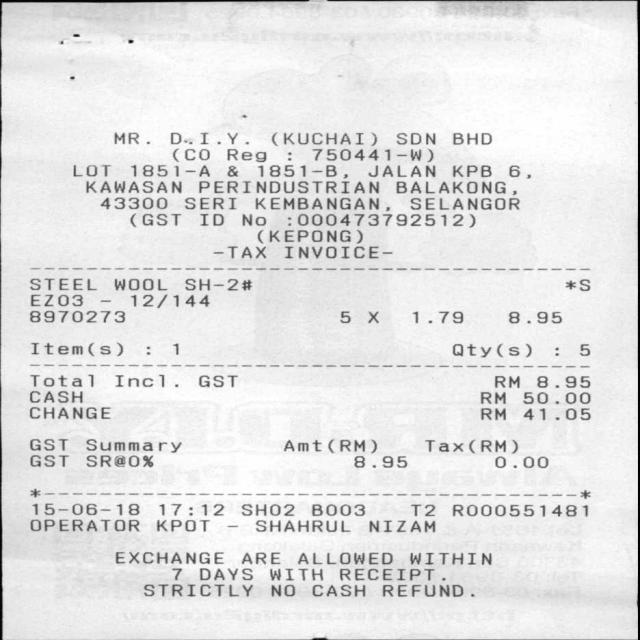text: (286, 213, 473, 227), (198, 180, 378, 192), (451, 504, 588, 517), (254, 197, 388, 210), (395, 180, 516, 194), (312, 148, 431, 161), (270, 132, 375, 146), (284, 245, 391, 258), (144, 583, 251, 596), (410, 197, 518, 209), (29, 518, 137, 530), (114, 551, 222, 563), (31, 502, 138, 514), (30, 342, 121, 356), (339, 568, 445, 580), (256, 230, 361, 242), (84, 438, 180, 451), (282, 439, 375, 452), (423, 439, 516, 452), (381, 583, 472, 596), (256, 164, 346, 177), (84, 180, 180, 192), (28, 310, 123, 322), (254, 520, 348, 532), (297, 552, 391, 564), (129, 294, 208, 308), (451, 343, 529, 357), (28, 406, 109, 418), (410, 552, 490, 564), (129, 164, 208, 176), (169, 132, 247, 144), (98, 196, 166, 208), (28, 278, 96, 290), (184, 278, 250, 290), (522, 391, 588, 403), (522, 408, 588, 420), (86, 454, 152, 466), (157, 503, 223, 515), (368, 164, 433, 176), (368, 520, 433, 532), (29, 374, 92, 386), (211, 245, 264, 258), (129, 213, 179, 226), (507, 310, 560, 322), (536, 375, 589, 387), (494, 456, 547, 468), (240, 503, 293, 515), (311, 503, 364, 515), (198, 567, 251, 579), (311, 584, 364, 596), (113, 278, 165, 290), (113, 374, 165, 386), (29, 390, 81, 402), (353, 455, 405, 467), (269, 568, 321, 580), (30, 294, 81, 306), (185, 196, 235, 208), (412, 310, 462, 322), (155, 519, 207, 530), (226, 148, 264, 161), (394, 132, 434, 144), (451, 132, 490, 144), (451, 164, 490, 176), (71, 164, 109, 176), (172, 148, 208, 160), (198, 375, 236, 386), (29, 455, 67, 466), (240, 552, 278, 563), (29, 439, 66, 450), (113, 132, 148, 143), (479, 391, 505, 403), (479, 408, 505, 420), (198, 213, 222, 225), (494, 375, 518, 387), (270, 584, 294, 596), (409, 504, 435, 515), (242, 213, 264, 225), (565, 279, 589, 290), (509, 165, 529, 178), (338, 310, 351, 322), (367, 310, 378, 322), (227, 164, 237, 176), (578, 343, 588, 355), (171, 567, 180, 579), (172, 343, 179, 355)
